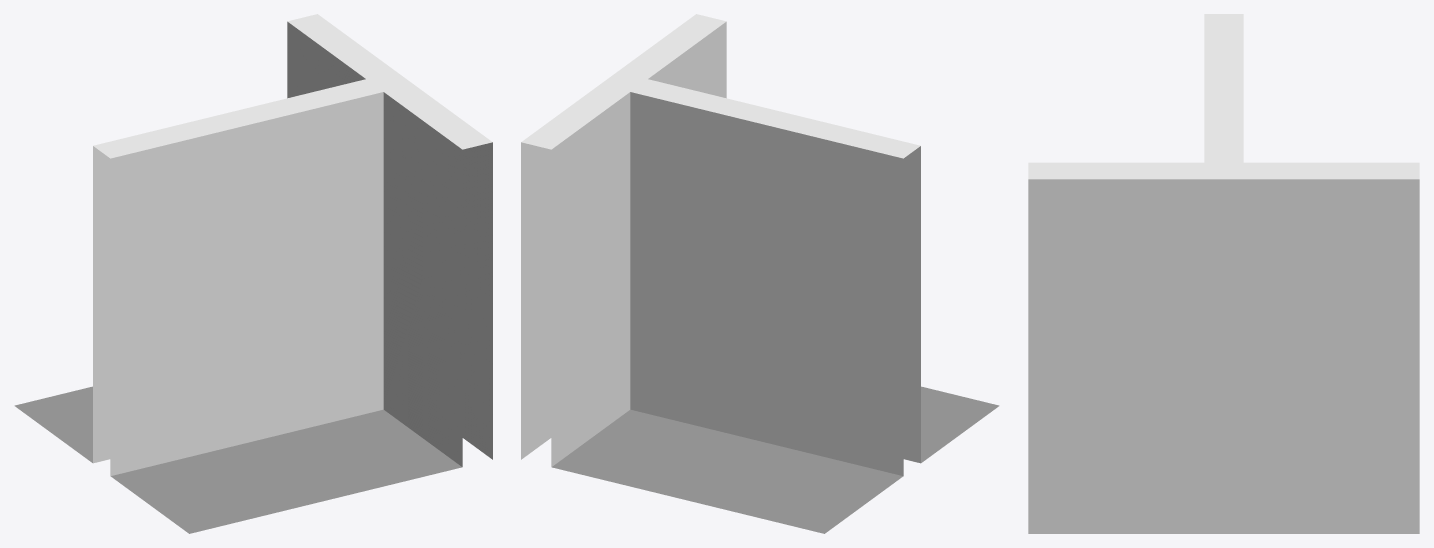
Rendered from E_Wall_T_Shape.fbx.
3 views of the same model, side by side, from view 1: azimuth 30°, elevation 25°; view 2: azimuth 150°, elevation 25°; view 3: azimuth 270°, elevation 25° (orthographic). The views are drawn at different scales.
Parts seen in each view (by area): view 1: E_Wall_T_Shape; view 2: E_Wall_T_Shape; view 3: E_Wall_T_Shape.
Boxes of the visible parts, <box> form: E_Wall_T_Shape: <box>14,14,492,533</box>; E_Wall_T_Shape: <box>521,14,999,533</box>; E_Wall_T_Shape: <box>1028,14,1419,533</box>.
Size of the model in its own units: 200 by 200 by 200.
